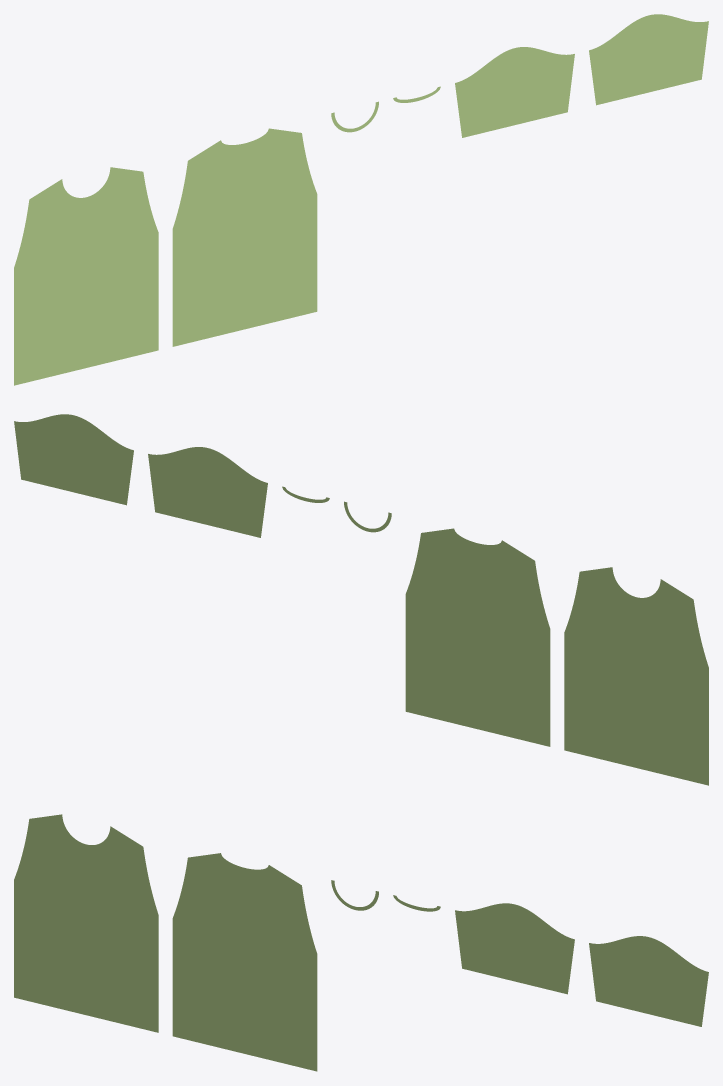
File: camiseta-deportiva-malla-regular-talla-M.glb
3 views of the same model, one above another, from view 1: azimuth 30°, elevation 25°; view 2: azimuth 150°, elevation 25°; view 3: azimuth 330°, elevation 25° (orthographic).
Visible parts, largest first — view 1: patron-espalda, patron-delantero, patron-manga-izq, patron-manga-der; view 2: patron-espalda, patron-delantero, patron-manga-izq, patron-manga-der; view 3: patron-espalda, patron-delantero, patron-manga-izq, patron-manga-der.
Boxes of the visible parts, x1,y1,x2,y2 form: patron-espalda: [172, 128, 317, 346]; patron-delantero: [14, 167, 158, 385]; patron-manga-izq: [455, 47, 574, 137]; patron-manga-der: [589, 14, 708, 105]; patron-espalda: [405, 528, 550, 746]; patron-delantero: [564, 567, 708, 785]; patron-manga-izq: [148, 447, 267, 537]; patron-manga-der: [14, 414, 133, 505]; patron-espalda: [172, 853, 317, 1071]; patron-delantero: [14, 814, 158, 1032]; patron-manga-izq: [455, 903, 574, 994]; patron-manga-der: [589, 936, 708, 1026].
Size of the model in its own units: 2.5 by 0.74 by 0.
